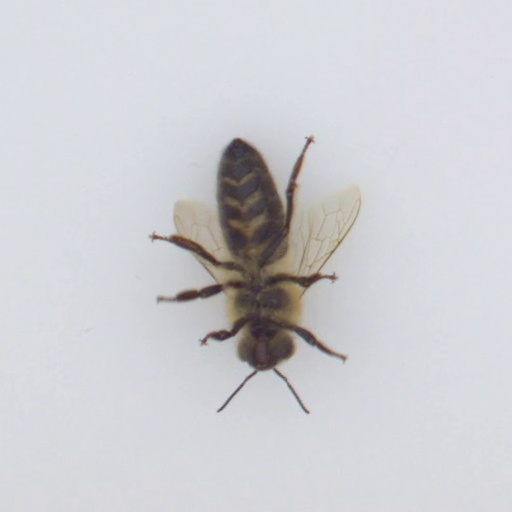Bee: (207, 134, 312, 372)
